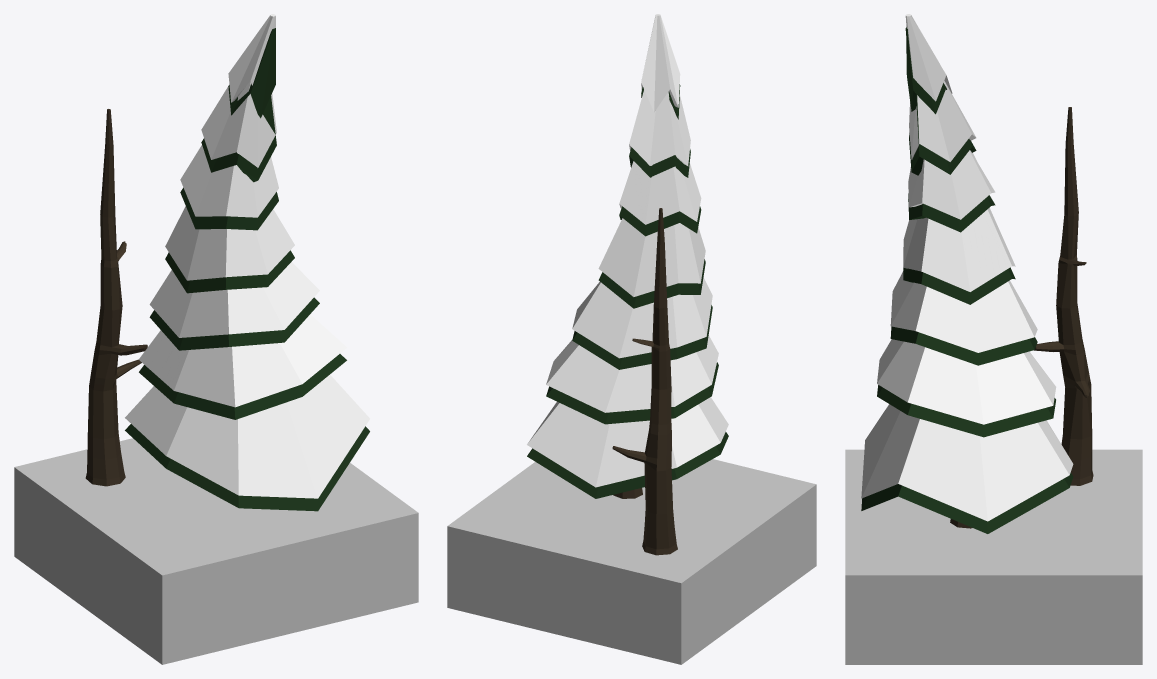
File: Tile_Tree_2.obj
3 views of the same model, side by side, from view 1: azimuth 30°, elevation 25°; view 2: azimuth 150°, elevation 25°; view 3: azimuth 270°, elevation 25° (orthographic). The views are drawn at different scales.
Parts seen in each view (by area): view 1: Cube, Cylinder.000_Cylinder.004, Cylinder.001_Cylinder.000, Cylinder.004_Cylinder.003; view 2: Cube, Cylinder.000_Cylinder.004, Cylinder.001_Cylinder.000, Cylinder.004_Cylinder.003; view 3: Cube, Cylinder.000_Cylinder.004, Cylinder.001_Cylinder.000, Cylinder.004_Cylinder.003.
Part boxes in pixels (bbox=[...]): Cube: bbox=[14, 438, 418, 664]; Cylinder.000_Cylinder.004: bbox=[125, 14, 369, 498]; Cylinder.001_Cylinder.000: bbox=[125, 28, 369, 511]; Cylinder.004_Cylinder.003: bbox=[85, 109, 147, 486]; Cube: bbox=[447, 459, 816, 664]; Cylinder.000_Cylinder.004: bbox=[527, 14, 728, 487]; Cylinder.001_Cylinder.000: bbox=[527, 84, 728, 498]; Cylinder.004_Cylinder.003: bbox=[612, 208, 677, 555]; Cube: bbox=[845, 449, 1142, 664]; Cylinder.000_Cylinder.004: bbox=[861, 14, 1073, 521]; Cylinder.001_Cylinder.000: bbox=[861, 27, 1073, 533]; Cylinder.004_Cylinder.003: bbox=[1034, 107, 1093, 485].
Size of the model in its own units: 3 by 6.62 by 3.
